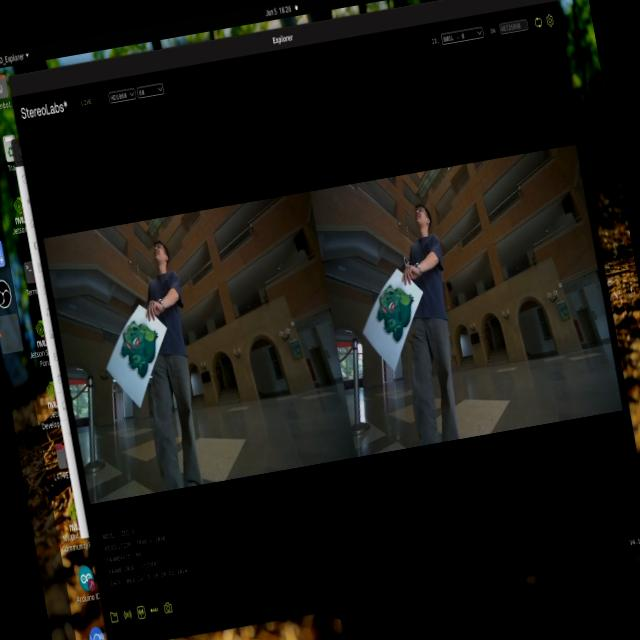green: (349, 276, 422, 362), (101, 314, 162, 380)
